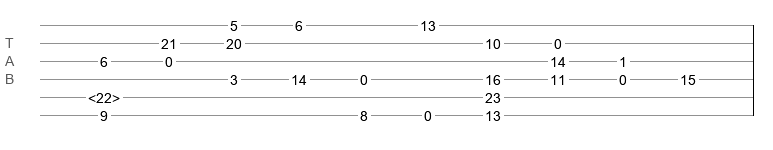0: (165, 54, 173, 64), (360, 72, 368, 82), (424, 108, 432, 118), (554, 36, 562, 46), (619, 72, 627, 82)
1: (619, 54, 627, 64)
10: (485, 36, 501, 46)
11: (550, 72, 566, 82)
13: (420, 18, 436, 28), (485, 108, 501, 118)
14: (291, 72, 307, 82), (550, 54, 566, 64)
15: (680, 72, 696, 82)
16: (485, 72, 501, 82)
20: (226, 36, 242, 46)
21: (161, 36, 177, 46)
23: (485, 90, 501, 100)
3: (230, 72, 238, 82)
5: (230, 18, 238, 28)
6: (100, 54, 108, 64), (295, 18, 303, 28)
8: (360, 108, 368, 118)
9: (100, 108, 108, 118)
harmonic: (88, 90, 120, 100)
